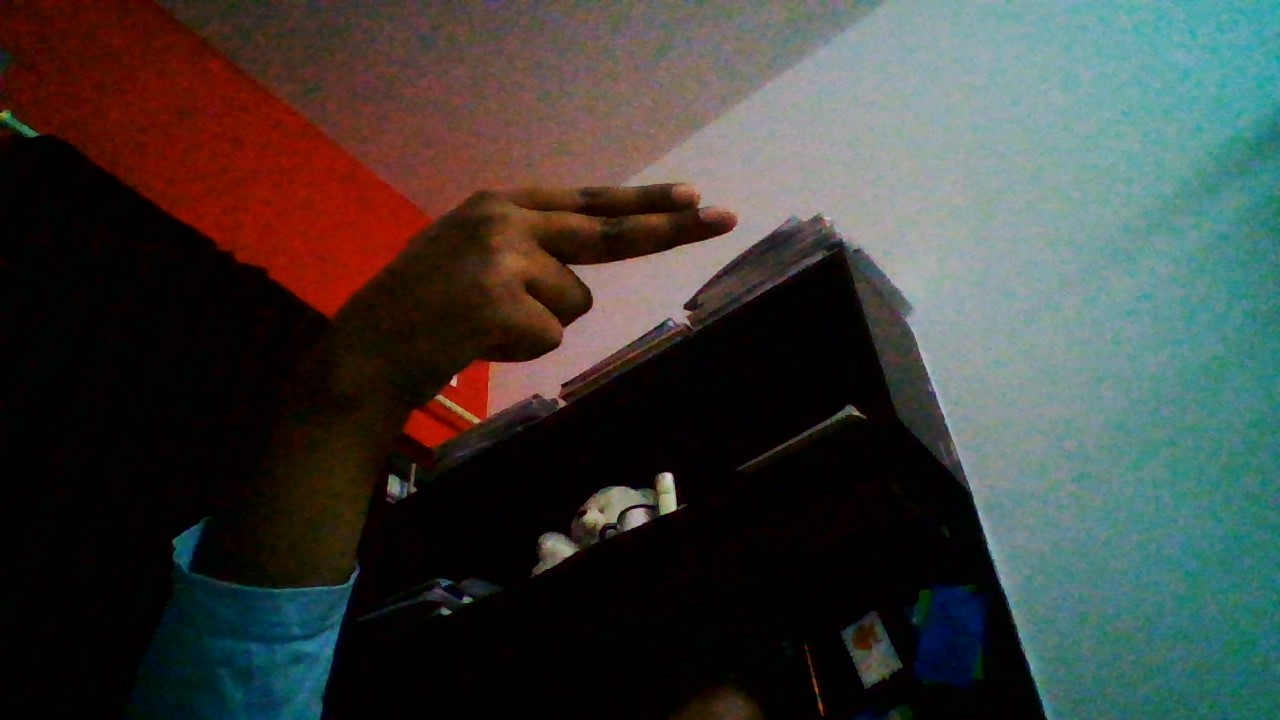h: (271, 135, 753, 444)
